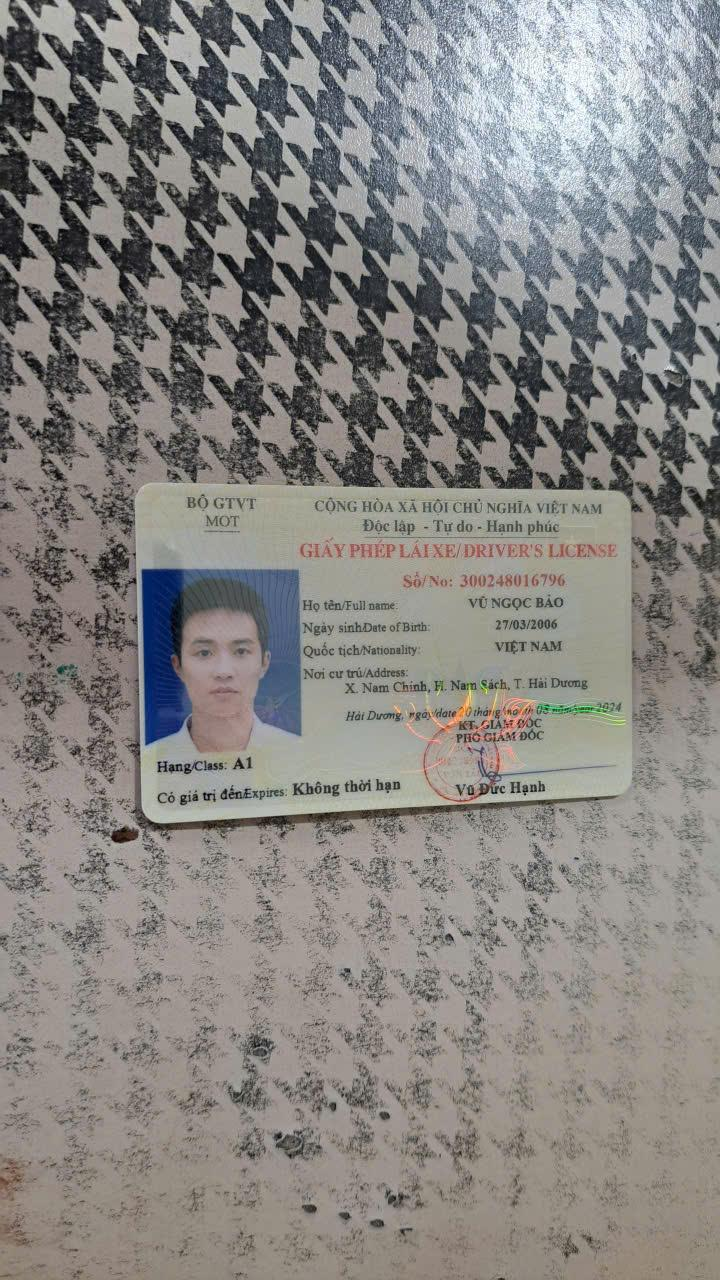gplx: (130, 473, 642, 838)
